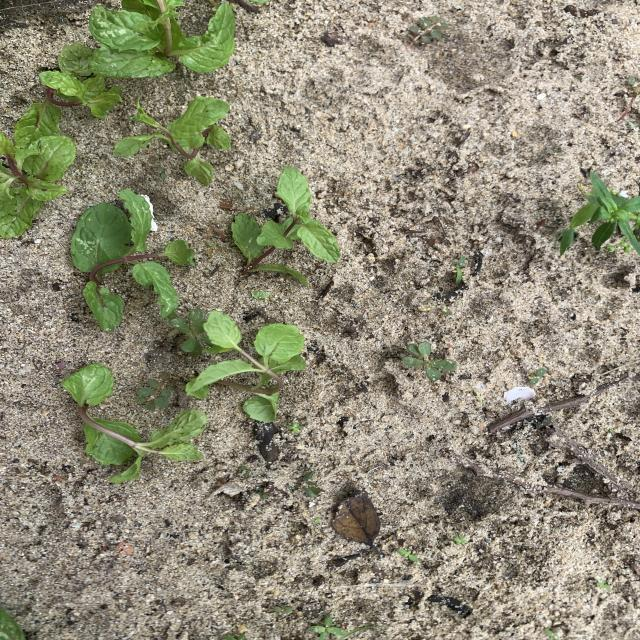crop: (61, 364, 206, 483), (72, 190, 194, 329), (56, 1, 235, 78), (181, 311, 305, 421), (231, 167, 339, 284), (113, 96, 231, 183), (1, 130, 74, 237), (16, 71, 121, 144), (1, 609, 24, 639)
weed: (558, 172, 639, 254), (401, 342, 456, 380), (136, 374, 173, 409), (408, 16, 447, 43), (310, 616, 344, 639), (303, 476, 319, 498), (398, 549, 419, 562), (455, 256, 464, 283), (529, 368, 545, 383), (225, 629, 246, 639), (252, 290, 270, 299), (545, 629, 561, 639), (286, 422, 302, 431), (239, 466, 251, 476), (274, 606, 291, 613), (597, 581, 611, 589), (257, 488, 267, 499), (547, 150, 563, 156), (453, 536, 466, 543)
